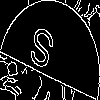S: (25, 25, 56, 79)
